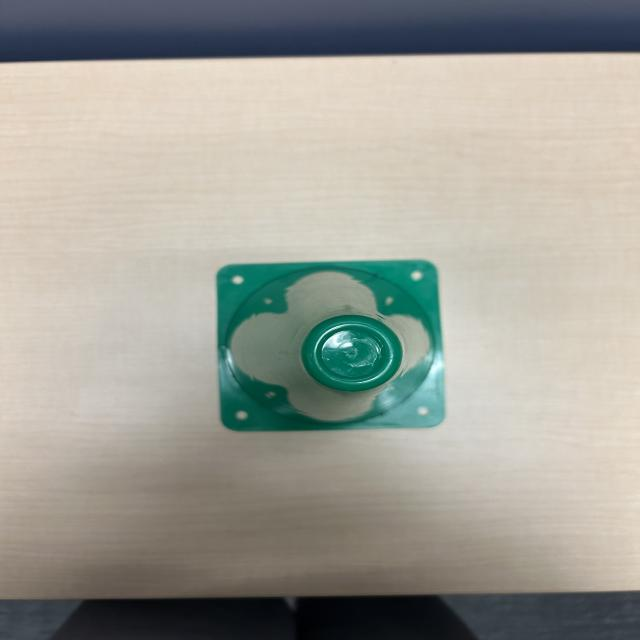green cone: (209, 254, 452, 433)
